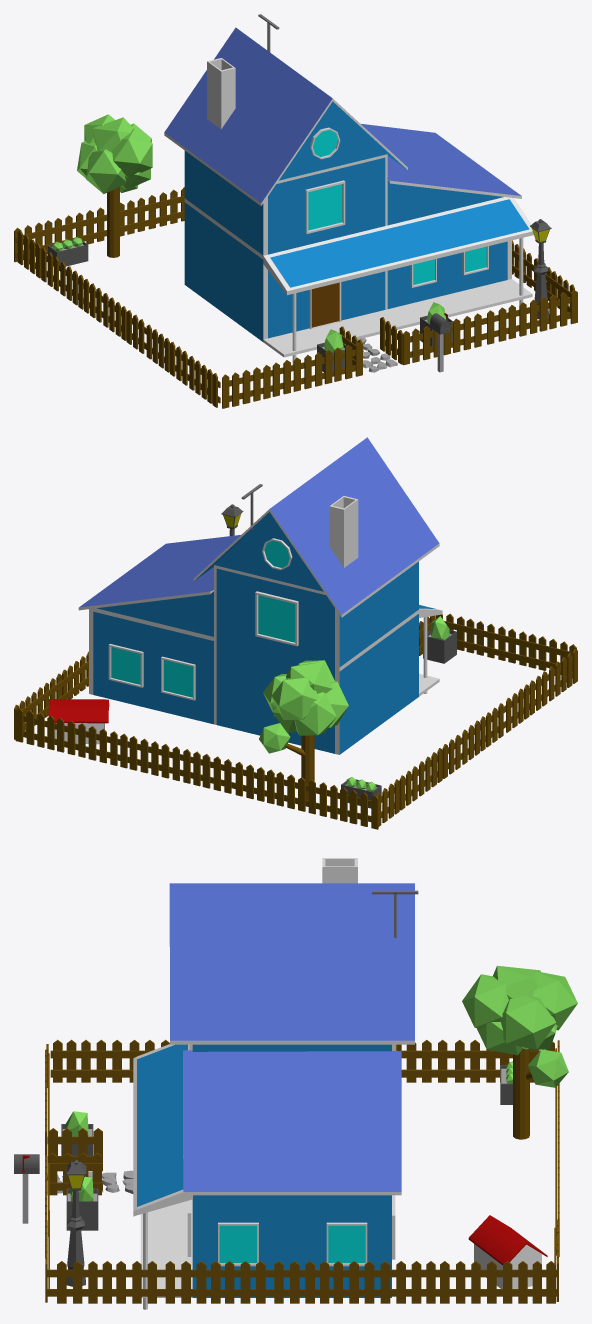
3 views of the same model, one above another, from view 1: azimuth 30°, elevation 25°; view 2: azimuth 150°, elevation 25°; view 3: azimuth 270°, elevation 25° (orthographic). The views are drawn at different scales.
Visible parts, largest first — view 1: tas_yol_pCube6; view 2: tas_yol_pCube6; view 3: tas_yol_pCube6.
Boxes of the visible parts, x1,y1,x2,y2 form: tas_yol_pCube6: [14, 14, 577, 408]; tas_yol_pCube6: [14, 437, 577, 829]; tas_yol_pCube6: [14, 858, 577, 1309].
Size of the model in its own units: 25.08 by 16.87 by 26.76.
